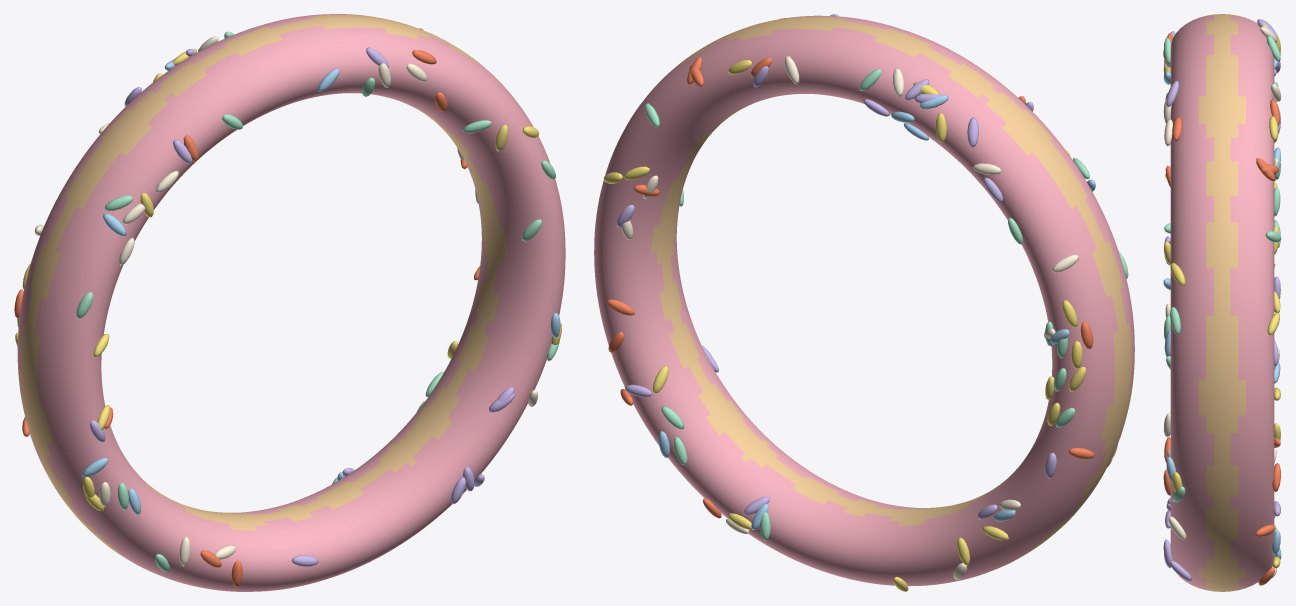
Rendered from hoop.glb.
3 renders of one model, left to right at view 1: azimuth 30°, elevation 25°; view 2: azimuth 150°, elevation 25°; view 3: azimuth 270°, elevation 25°, orthographic. The views are drawn at different scales.
Parts seen in each view (by area): view 1: hoop; view 2: hoop; view 3: hoop.
Boxes of the visible parts, <box> form: hoop: <box>14,14,565,591</box>; hoop: <box>594,14,1134,591</box>; hoop: <box>1163,14,1281,591</box>.
Bounding box in the file's own units: 2.9 × 2.9 × 0.5925.
